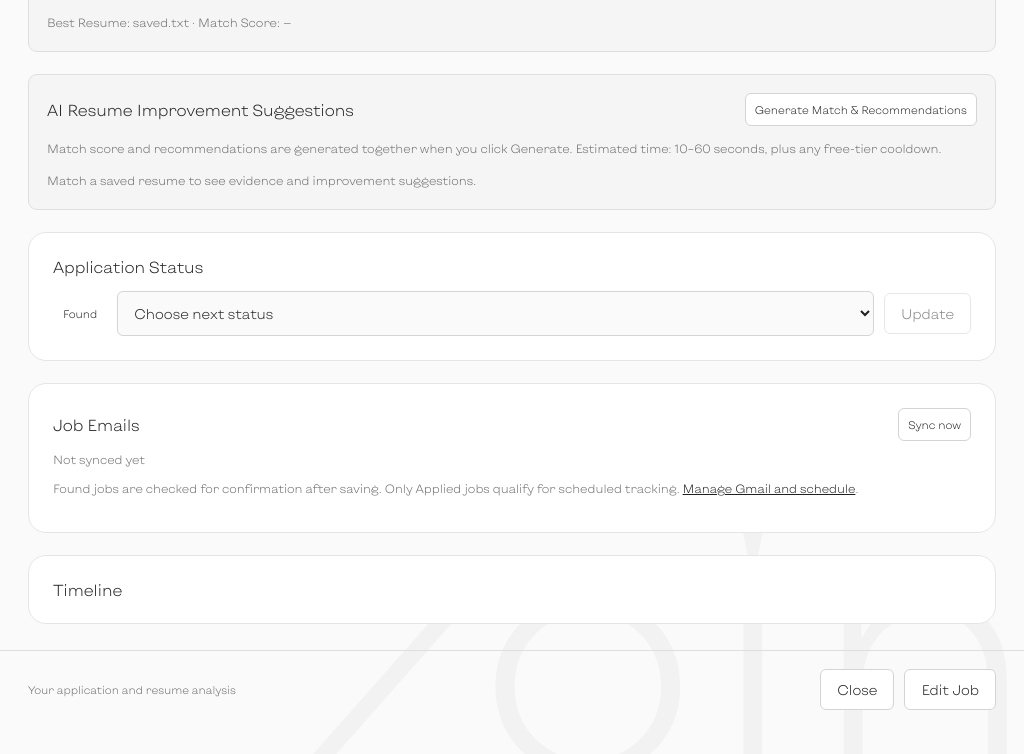
opening Edit Job never submits or closes the form
(page scrolled)
Click the button "Edit Job": click(950, 689) [904,669,996,710]
(page scrolled)
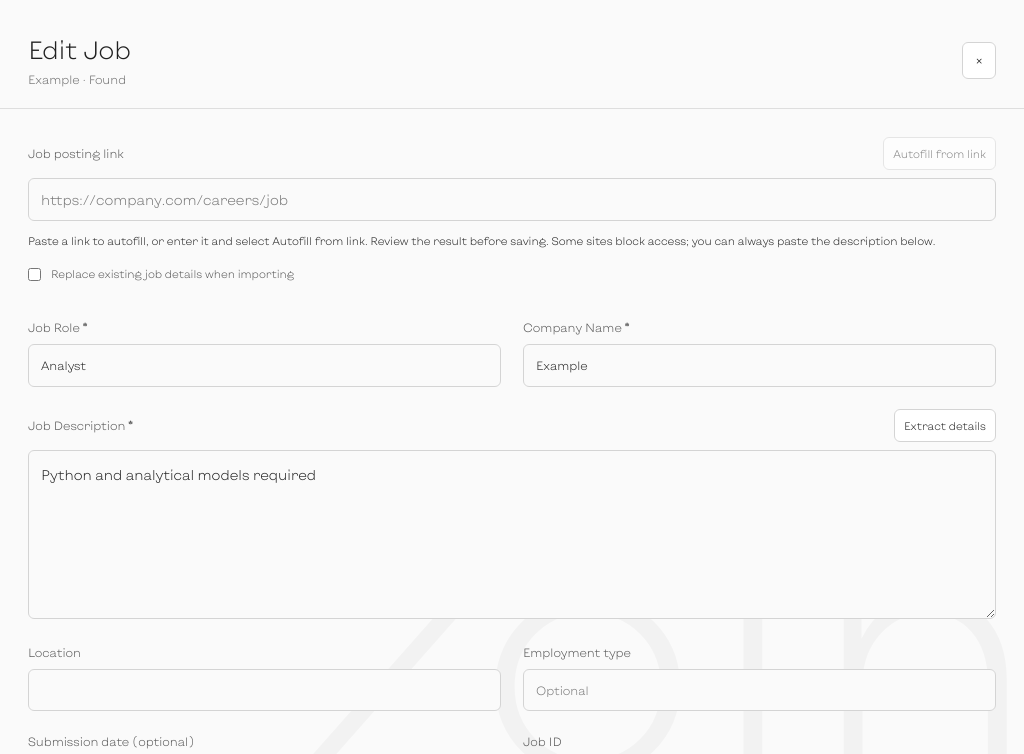
Check: the heading "Edit Job" is shown, box [28,34,131,64]
